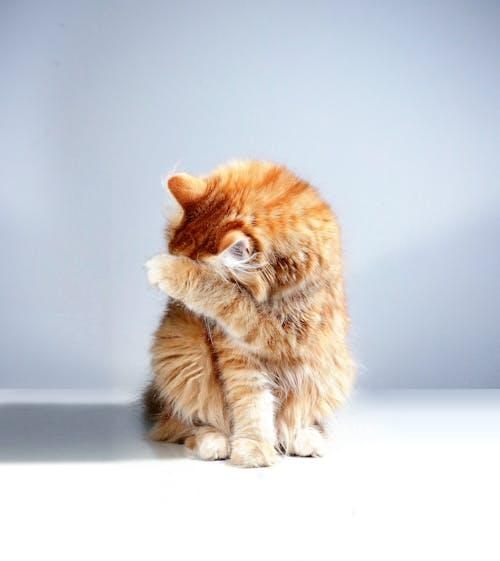kedo: (145, 158, 357, 465)
